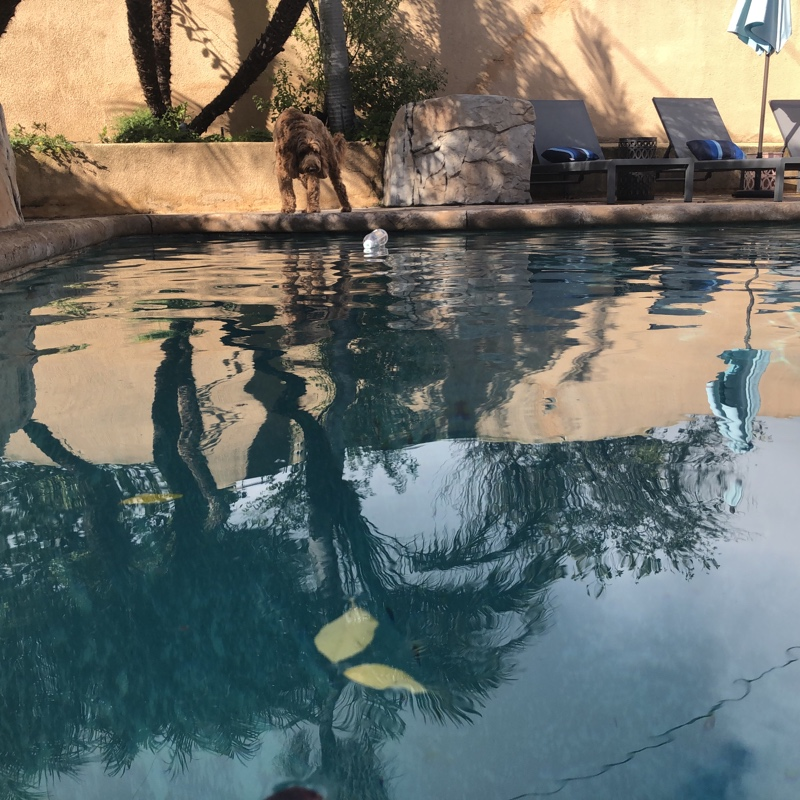Plastic Bottle: (361, 224, 388, 253)
